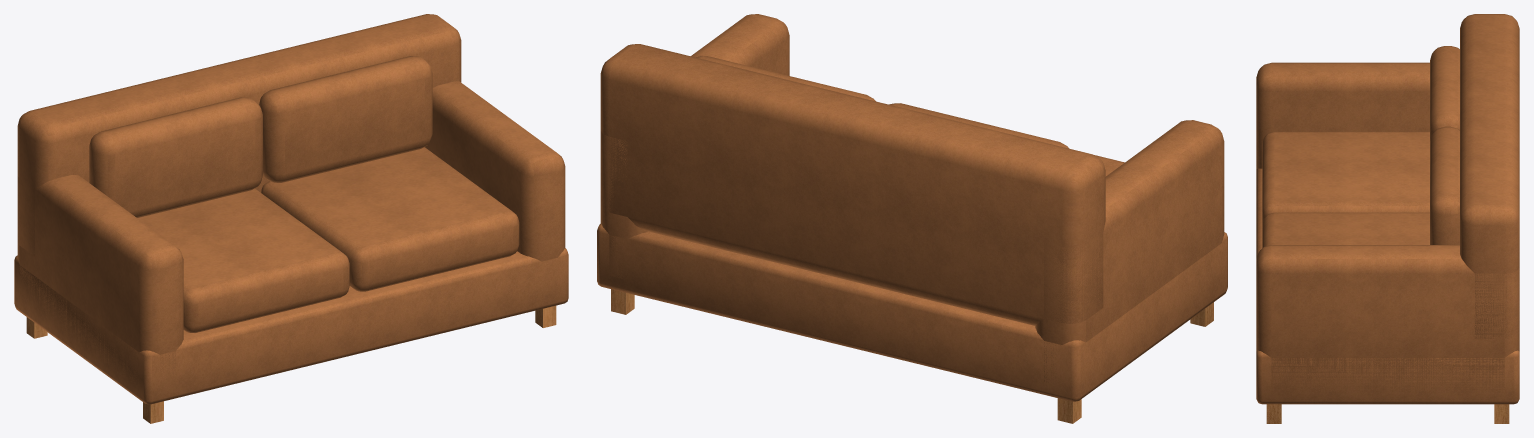
File: lounge.2-seater-sofa.glb
3 views of the same model, side by side, from view 1: azimuth 30°, elevation 25°; view 2: azimuth 150°, elevation 25°; view 3: azimuth 270°, elevation 25° (orthographic). The views are drawn at different scales.
Visible parts, largest first — view 1: lounge.2-seater-sofa.001; view 2: lounge.2-seater-sofa.001; view 3: lounge.2-seater-sofa.001.
Boxes of the visible parts, bbox=[...] form: lounge.2-seater-sofa.001: bbox=[14, 14, 568, 423]; lounge.2-seater-sofa.001: bbox=[597, 14, 1227, 423]; lounge.2-seater-sofa.001: bbox=[1256, 14, 1519, 423].
Bounding box in the file's own units: 1.6 × 0.8 × 0.88.
2 materials, 2 textured.
